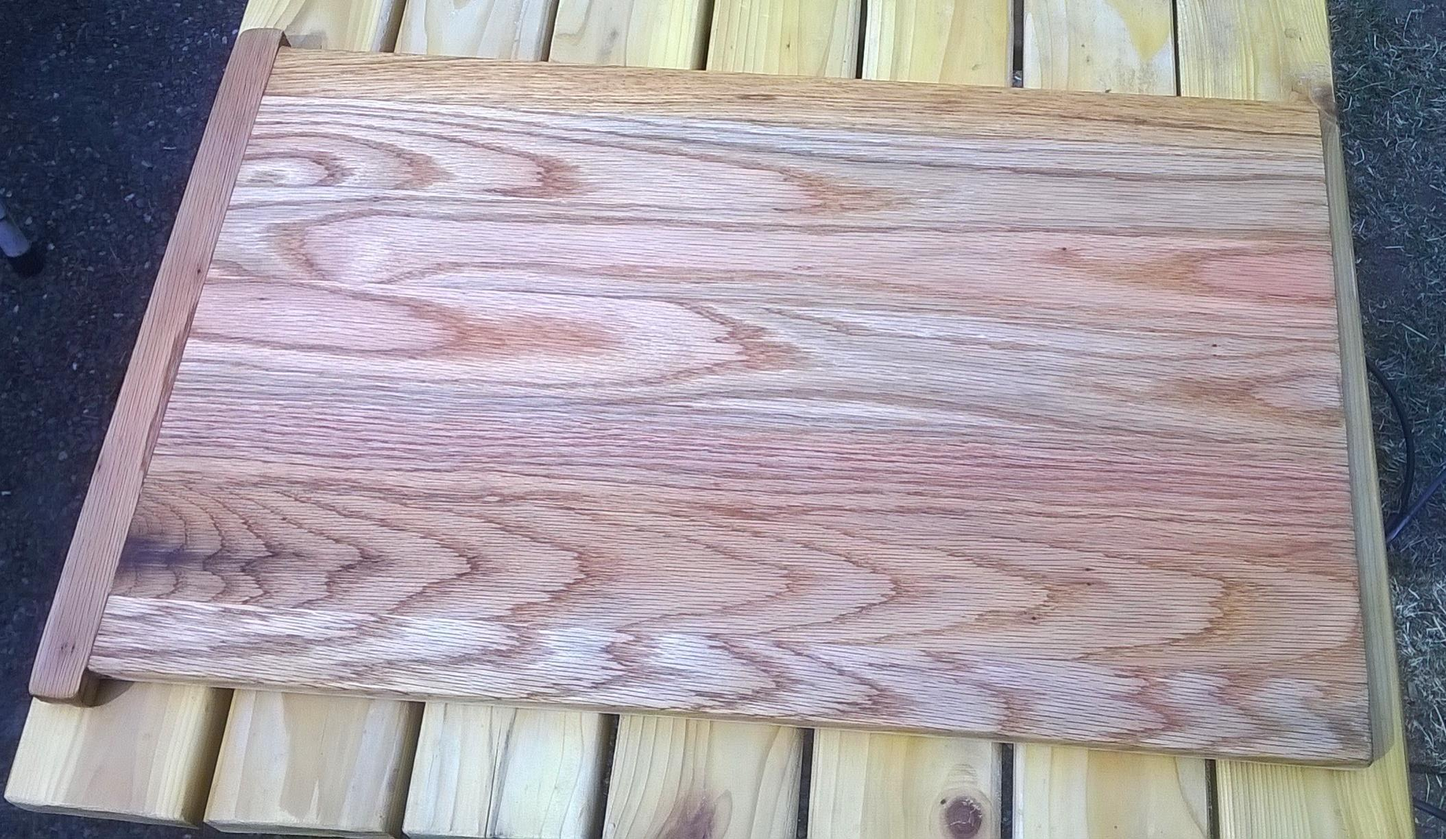gloved_hand: (23, 16, 1399, 793)
